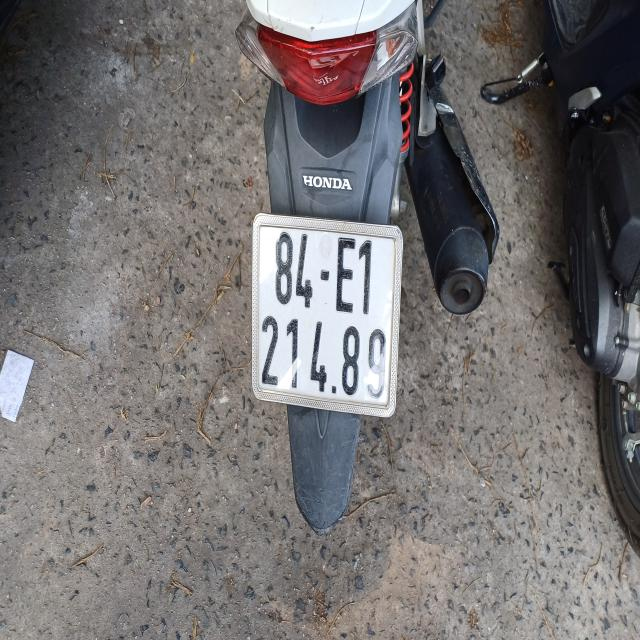1: (354, 236, 378, 317), (283, 310, 301, 396)
2: (260, 314, 278, 392)
4: (307, 320, 327, 392), (295, 235, 313, 309)
8: (274, 228, 294, 308), (343, 324, 360, 398)
9: (364, 331, 386, 402)
E: (336, 230, 354, 315)
